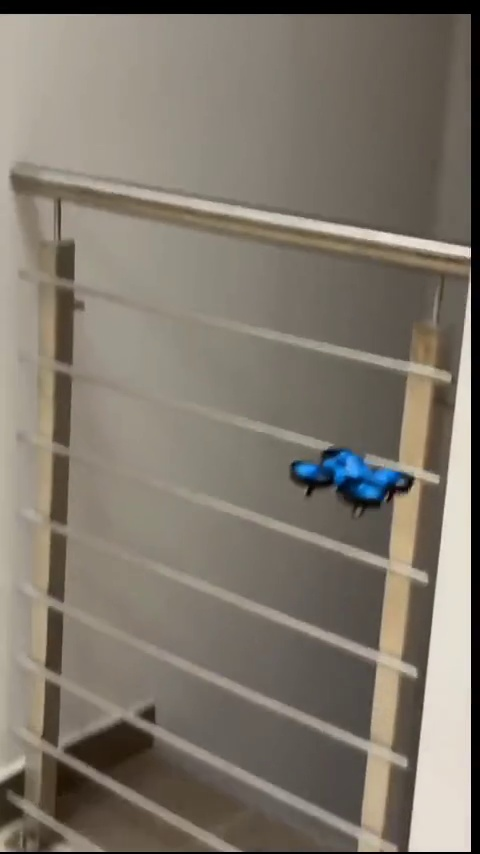drone: (294, 443, 404, 503)
